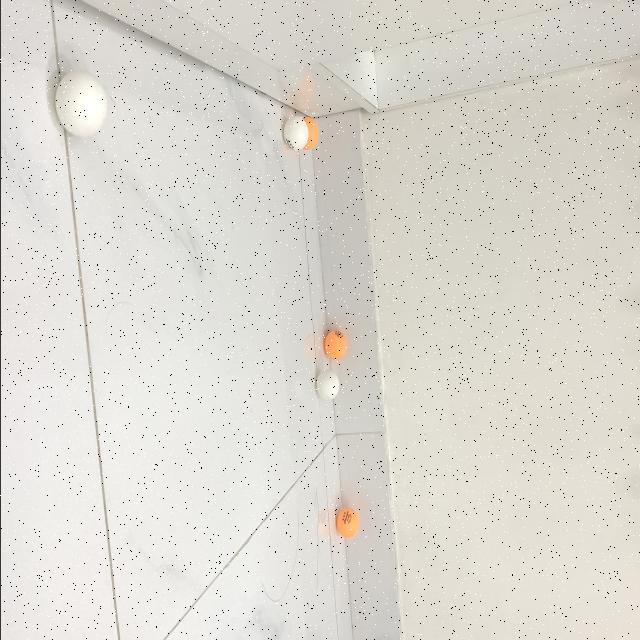ping-pong-ball: (54, 74, 108, 138), (282, 115, 308, 152), (294, 114, 319, 150), (335, 506, 361, 540), (314, 368, 338, 402), (324, 331, 346, 360)
